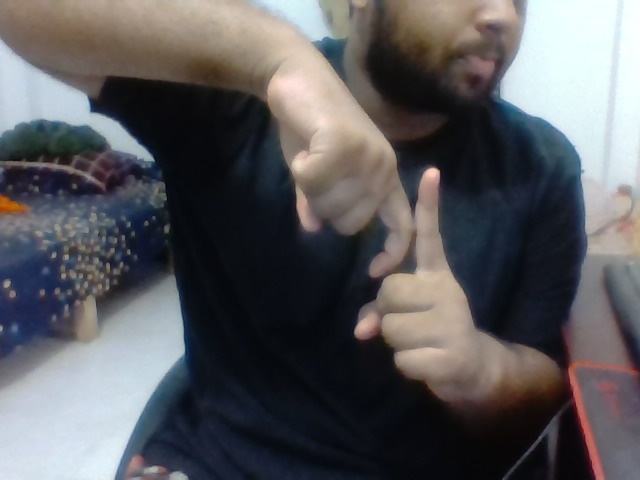K: (302, 26, 502, 411)
